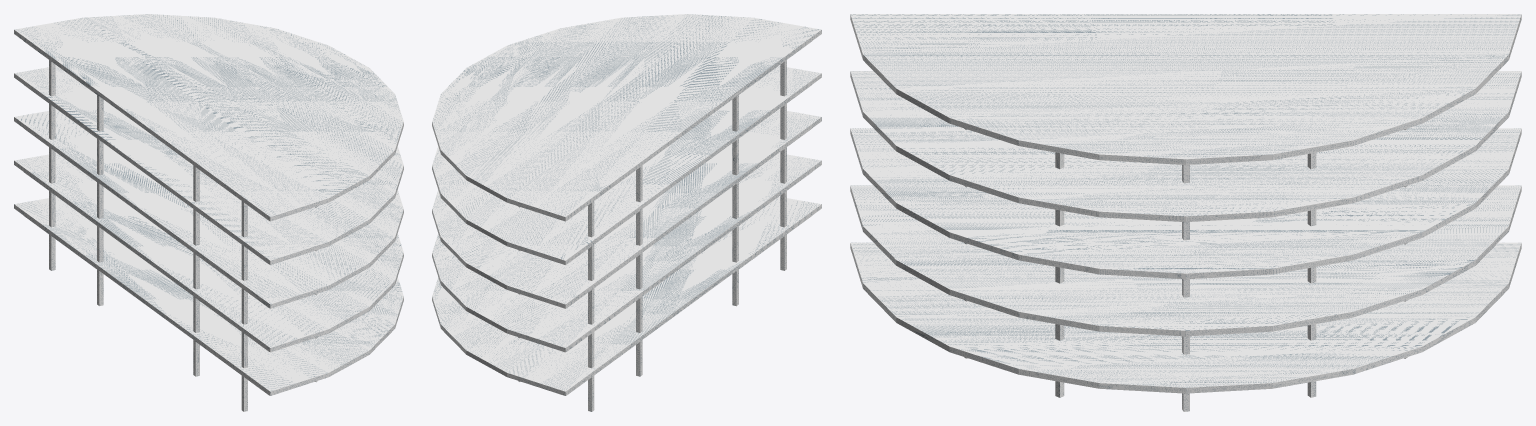
Rendered from 2-Framework.obj.
The picture shows the model from 3 angles, left to right: view 1: azimuth 30°, elevation 25°; view 2: azimuth 150°, elevation 25°; view 3: azimuth 270°, elevation 25°; orthographic projection. The views are drawn at different scales.
Visible parts, largest first — view 1: Mesh1145 LSS_Slab4 Model, Mesh1141 LSS_Slab2 Model, Mesh1139 LSS_Slab1 Model, Mesh1137 LSS_Slab Model, Mesh1143 LSS_Slab3 Model; view 2: Mesh1145 LSS_Slab4 Model, Mesh1141 LSS_Slab2 Model, Mesh1139 LSS_Slab1 Model, Mesh1137 LSS_Slab Model, Mesh1143 LSS_Slab3 Model; view 3: Mesh1145 LSS_Slab4 Model, Mesh1139 LSS_Slab1 Model, Mesh1141 LSS_Slab2 Model, Mesh1137 LSS_Slab Model, Mesh1143 LSS_Slab3 Model.
Part boxes in pixels (<box>): Mesh1145 LSS_Slab4 Model: <box>14,14,403,221</box>; Mesh1141 LSS_Slab2 Model: <box>14,109,403,308</box>; Mesh1139 LSS_Slab1 Model: <box>14,153,403,352</box>; Mesh1137 LSS_Slab Model: <box>14,196,403,395</box>; Mesh1143 LSS_Slab3 Model: <box>14,66,403,264</box>; Mesh1145 LSS_Slab4 Model: <box>432,14,821,221</box>; Mesh1141 LSS_Slab2 Model: <box>432,109,821,308</box>; Mesh1139 LSS_Slab1 Model: <box>432,153,821,352</box>; Mesh1137 LSS_Slab Model: <box>432,196,821,395</box>; Mesh1143 LSS_Slab3 Model: <box>432,66,821,264</box>; Mesh1145 LSS_Slab4 Model: <box>850,14,1521,164</box>; Mesh1139 LSS_Slab1 Model: <box>850,185,1521,336</box>; Mesh1141 LSS_Slab2 Model: <box>850,128,1521,279</box>; Mesh1137 LSS_Slab Model: <box>850,242,1521,393</box>; Mesh1143 LSS_Slab3 Model: <box>850,71,1521,221</box>.
Size of the model in its own units: 1636 by 1500 by 3193.
